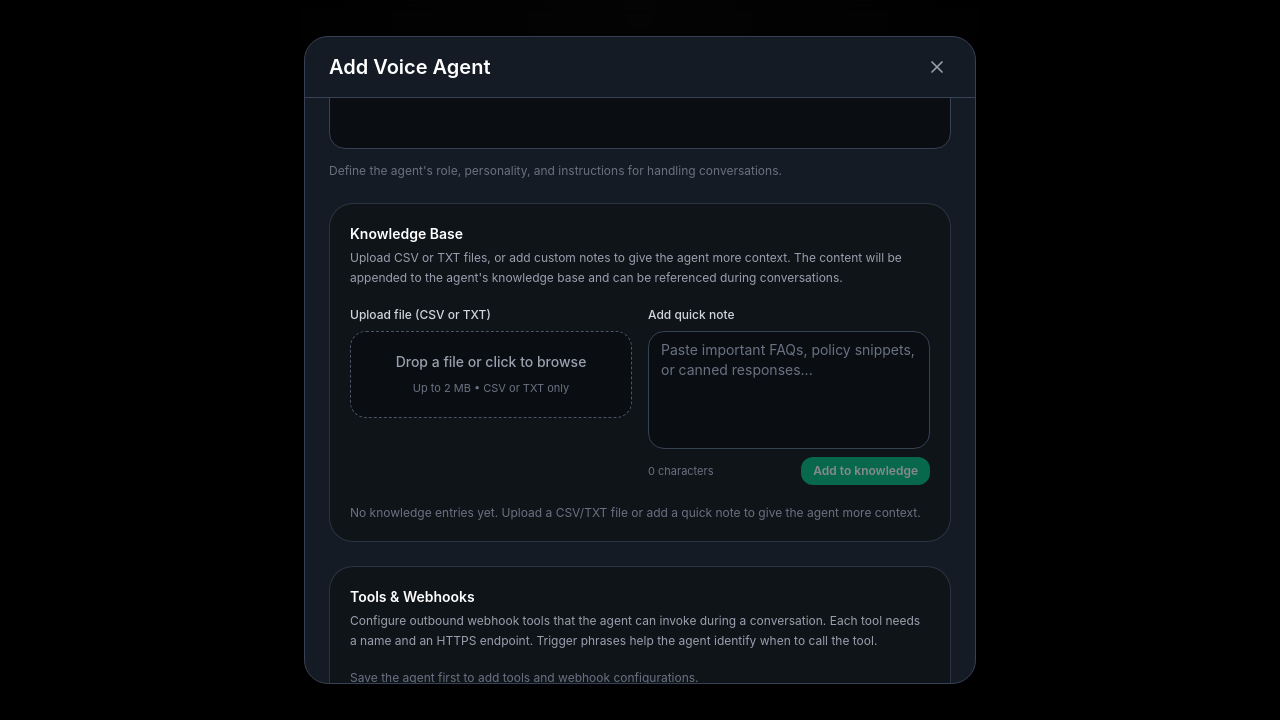
Test: AgentModal › Knowledge Base Features › should allow adding manual knowledge note
(page scrolled)
Check: the button "Add to knowledge" is disabled, box [801,457,930,485]
Type some text
Replace the text in the text box with placeholder "Paste important FAQs" with "This is important information": coordinates (789, 390) [648,331,930,449]
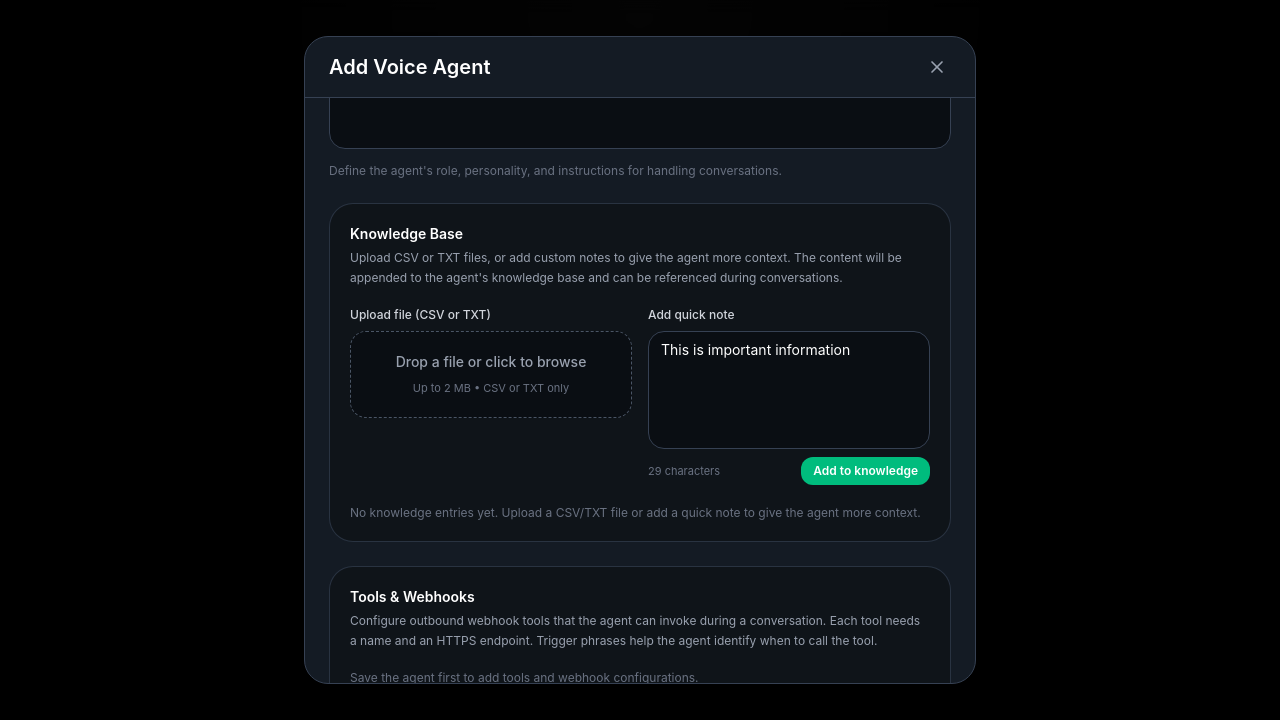
Check: the button "Add to knowledge" is enabled
Click to add
Click the button "Add to knowledge": coordinates (866, 471) [801,457,930,485]
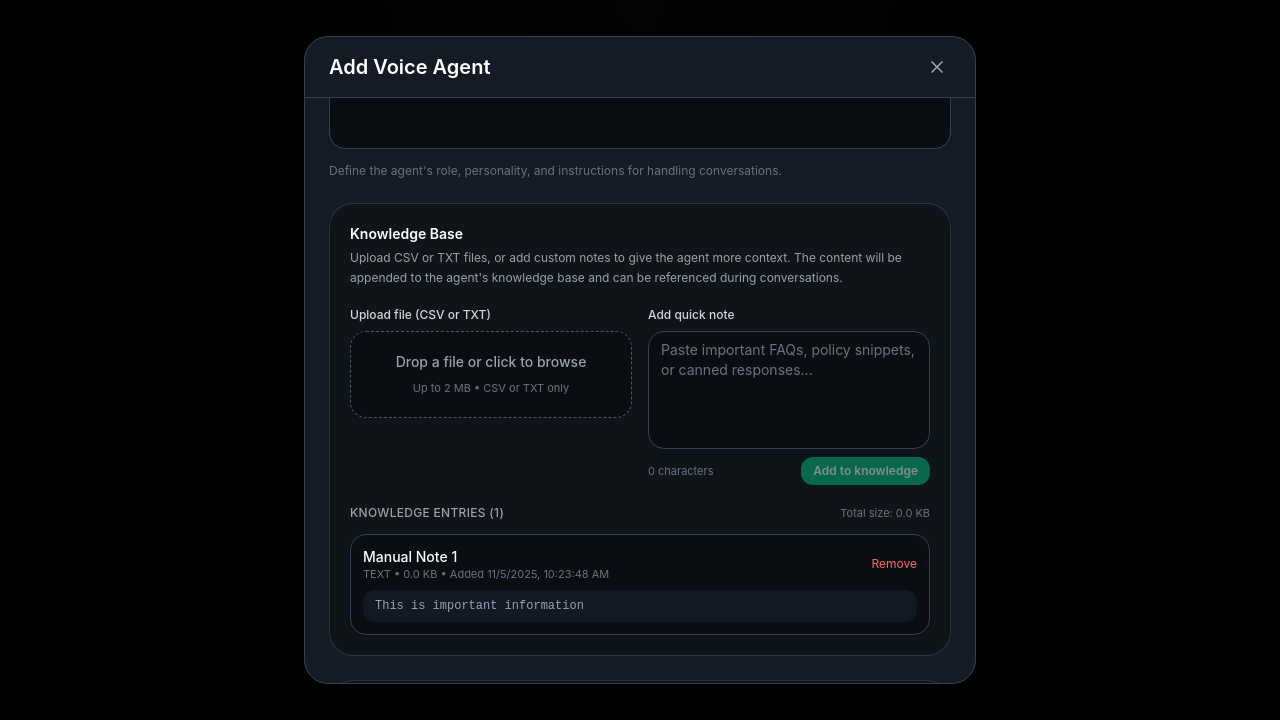
Check: the text "Manual Note 1" is shown, box [363,548,457,564]
Check: the text box with placeholder "Paste important FAQs" is empty, box [648,331,930,449]
